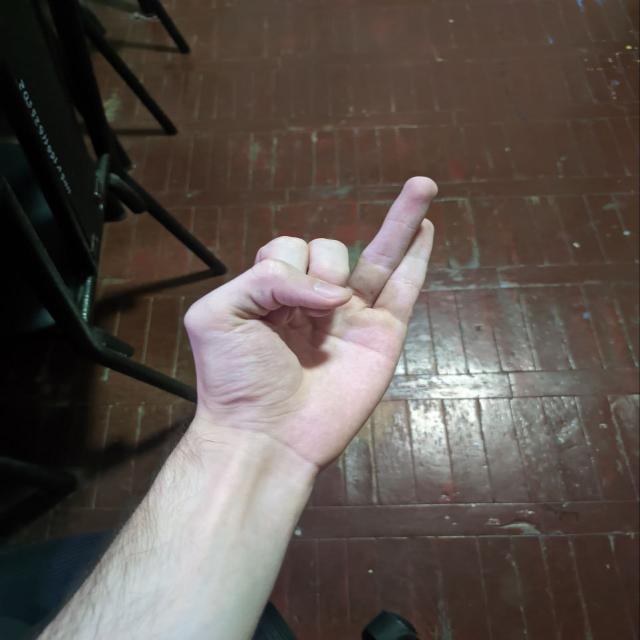i: (202, 162, 454, 455)
